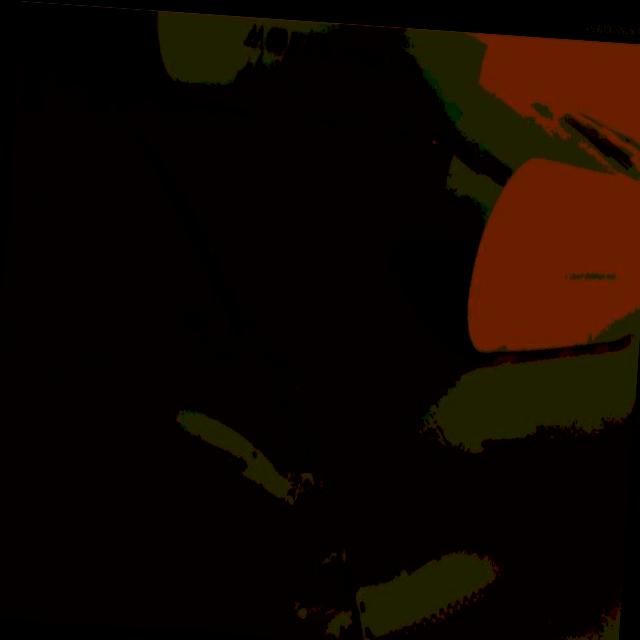crack: (122, 134, 260, 349)
